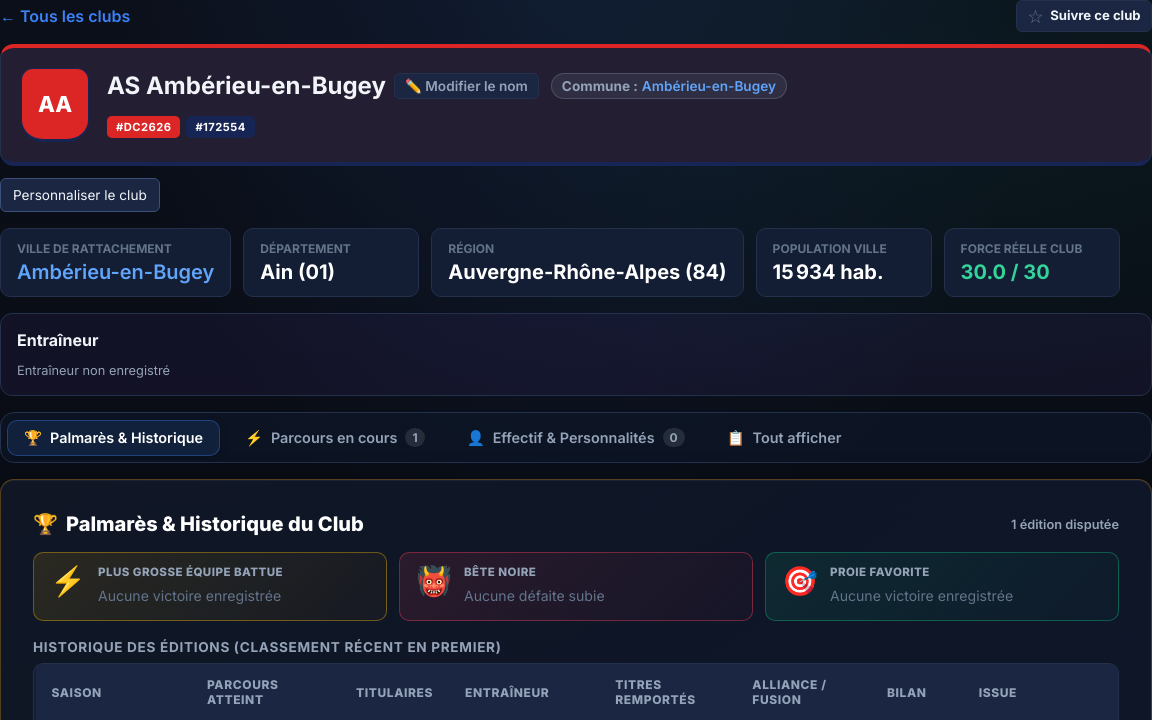
Test case: TeamPage - Club Renaming › renders live cup status card with opponent and direct match button when active in cup
The width and height of the screenshot is (1152, 720).
Click the tab "⚡ Parcours en cours 1" at (335, 438), box [228,419,442,456]
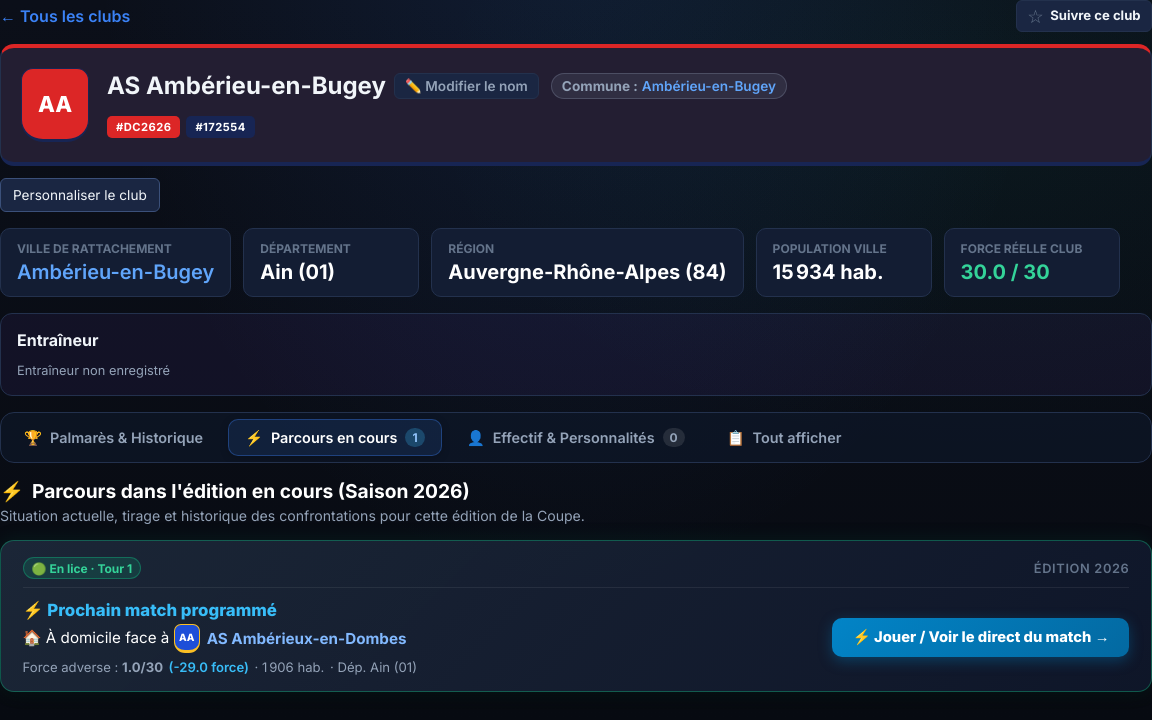
Expected: the text "🟢 En lice · Tour 1" is shown, [23,557,141,579]
Expected: the heading "⚡ Prochain match programmé" is shown, [23,600,277,620]
Expected: the link "⚡ Jouer / Voir le direct du match →" is shown, [832,618,1129,657]
